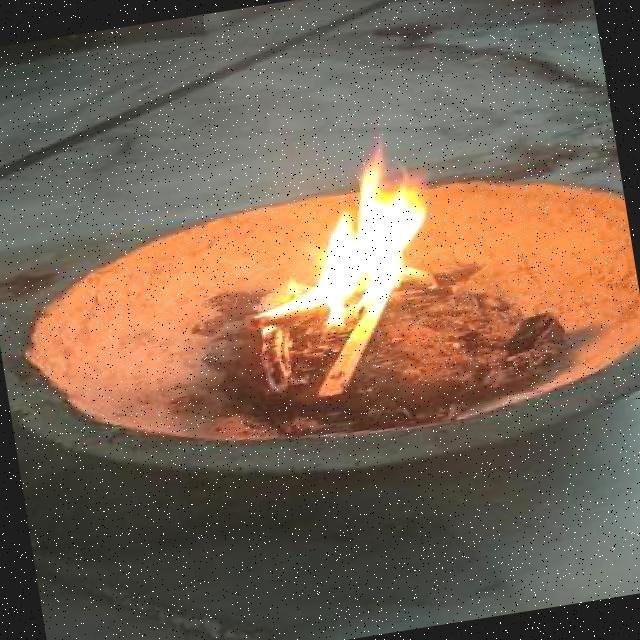Fire: (208, 135, 457, 348)
